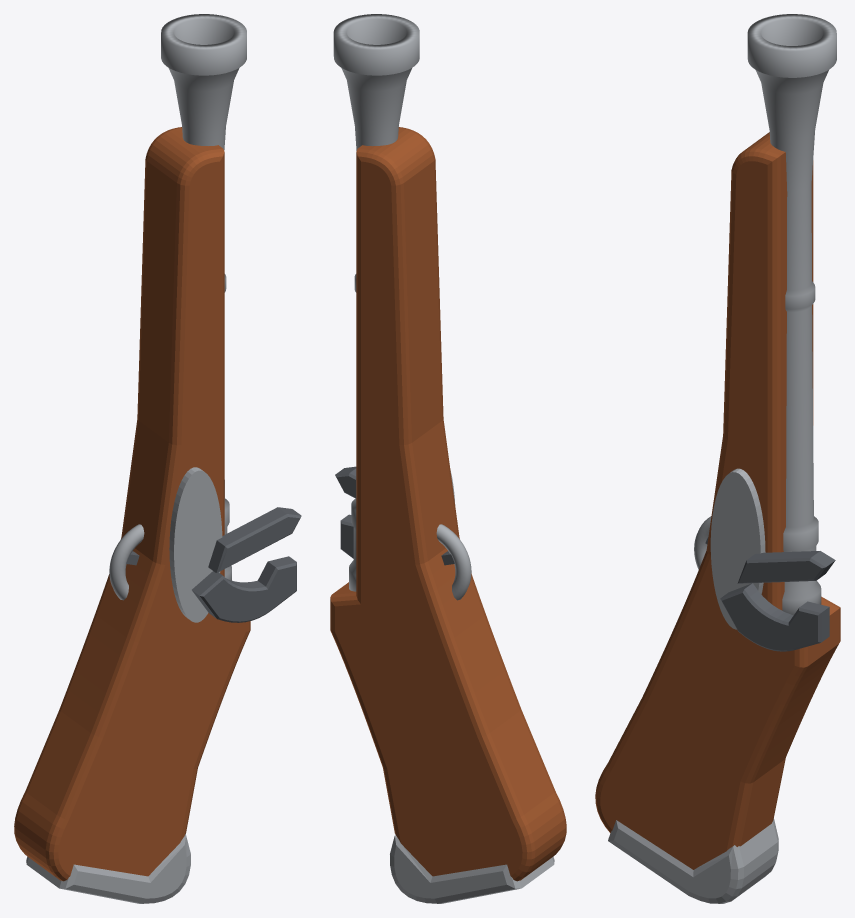
File: Blunderbuss.glb
3 views of the same model, side by side, from view 1: azimuth 30°, elevation 25°; view 2: azimuth 150°, elevation 25°; view 3: azimuth 330°, elevation 25° (orthographic). The views are drawn at different scales.
Visible parts, largest first — view 1: stock, barrel, lockPlate, buttCap, cock, frizzen, triggerGuard; view 2: stock, barrel, buttCap, triggerGuard, cock; view 3: stock, barrel, buttCap, lockPlate, cock, frizzen, triggerGuard.
Boxes of the visible parts, x1,y1,x2,y2 form: stock: (14,127,250,881); barrel: (161,14,246,580); lockPlate: (169,467,222,622); buttCap: (26,834,190,903); cock: (192,556,296,622); frizzen: (208,507,301,572); triggerGuard: (109,524,144,600); stock: (330,127,566,881); barrel: (333,14,419,591); buttCap: (390,834,554,903); triggerGuard: (436,524,471,600); cock: (340,514,353,558); stock: (595,132,840,869); barrel: (747,14,836,615); buttCap: (608,818,778,903); lockPlate: (710,468,765,629); cock: (720,583,829,651); frizzen: (737,551,835,583); triggerGuard: (694,516,711,569).
Bounding box in the file's own units: 1.18 × 3.99 × 0.475.
